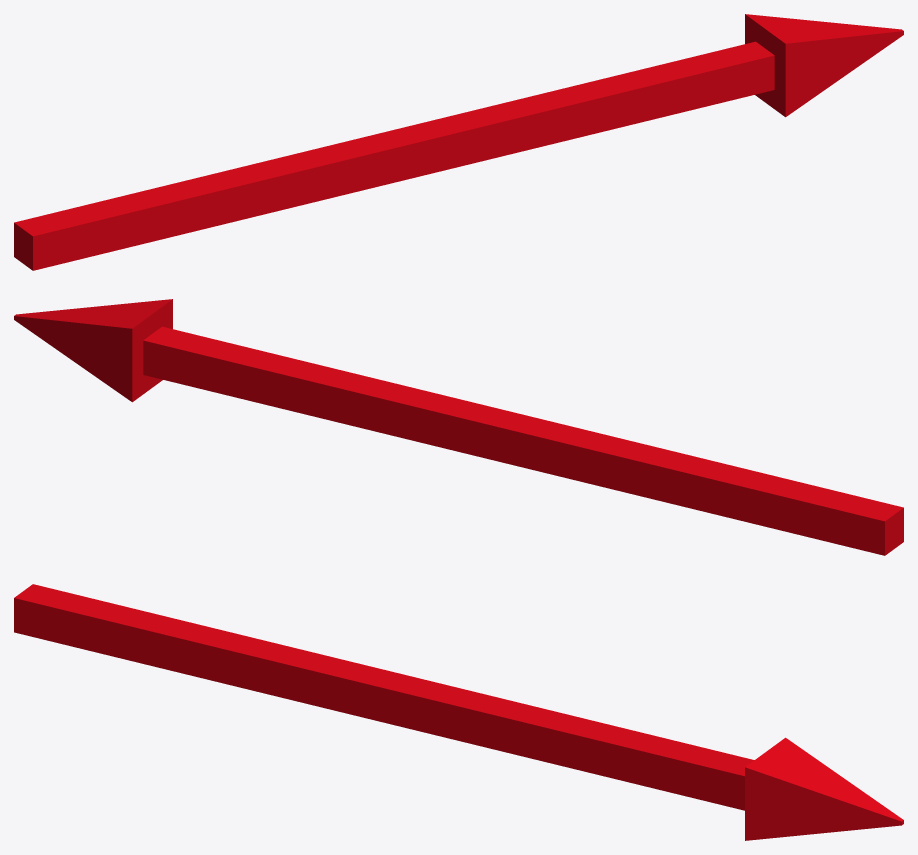
3 renders of one model, top to bottom at view 1: azimuth 30°, elevation 25°; view 2: azimuth 150°, elevation 25°; view 3: azimuth 330°, elevation 25°, orthographic.
Parts seen in each view (by area): view 1: Cube; view 2: Cube; view 3: Cube.
Boxes of the visible parts, box(x1,y1,x2,y2) form: Cube: box(14, 14, 903, 270); Cube: box(14, 299, 903, 555); Cube: box(14, 584, 903, 840).
Bounding box in the file's own units: 2.37 × 0.1897 × 0.1897.
